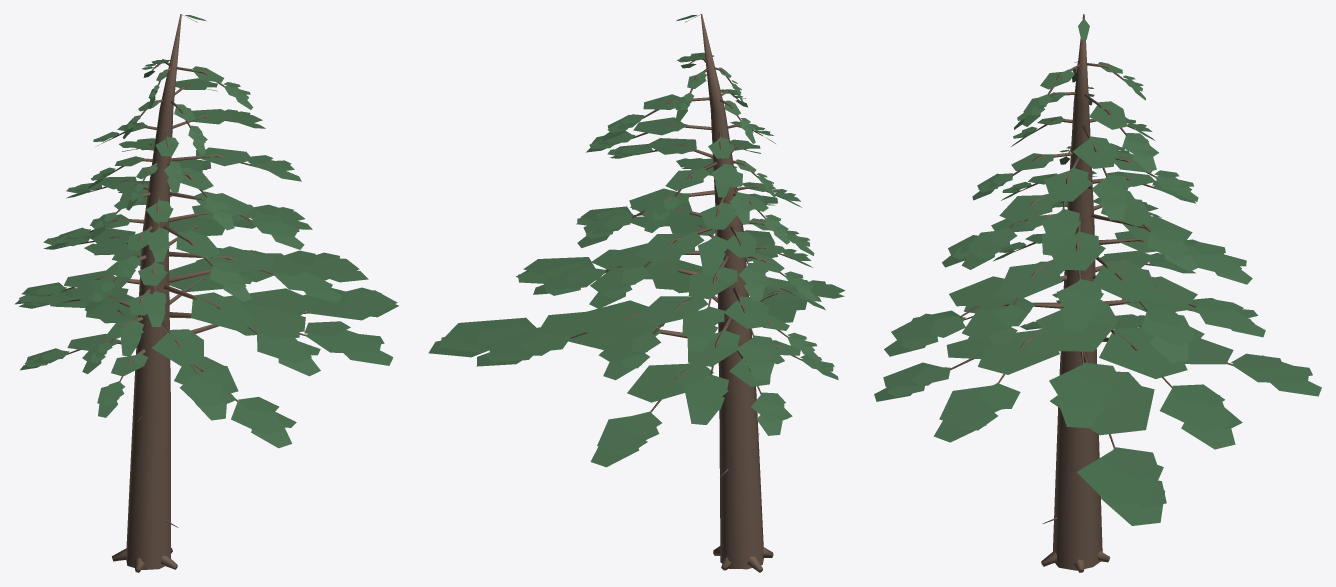
File: hemlock-windswept.glb
3 views of the same model, side by side, from view 1: azimuth 30°, elevation 25°; view 2: azimuth 150°, elevation 25°; view 3: azimuth 270°, elevation 25° (orthographic). The views are drawn at different scales.
Visible parts, largest first — view 1: tree_hemlock-windswept_LOD0; view 2: tree_hemlock-windswept_LOD0; view 3: tree_hemlock-windswept_LOD0.
Part boxes in pixels (x1=…): tree_hemlock-windswept_LOD0: x1=15, y1=14, x2=398, y2=572; tree_hemlock-windswept_LOD0: x1=428, y1=14, x2=845, y2=572; tree_hemlock-windswept_LOD0: x1=874, y1=14, x2=1321, y2=572.
Size of the model in its own units: 11.01 by 15.52 by 11.15.
